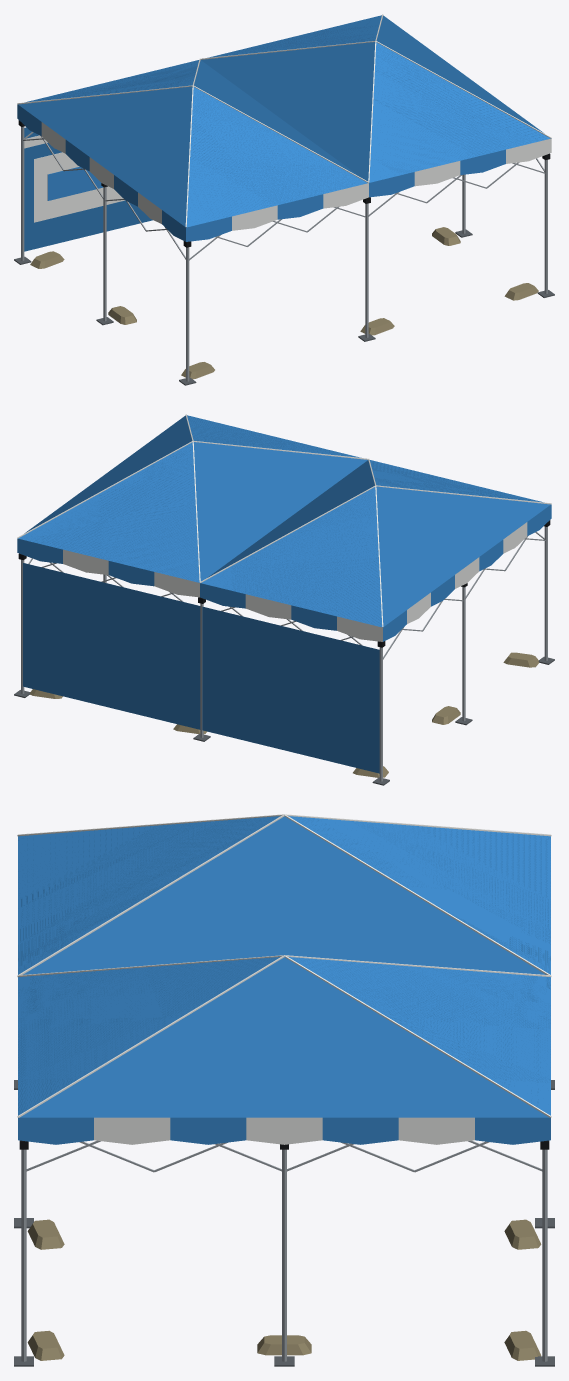
Rendered from pit_tent.glb.
3 views of the same model, one above another, from view 1: azimuth 30°, elevation 25°; view 2: azimuth 150°, elevation 25°; view 3: azimuth 270°, elevation 25° (orthographic). The views are drawn at different scales.
Visible parts, largest first — view 1: pit_tent; view 2: pit_tent; view 3: pit_tent.
Boxes of the visible parts, bbox=[...] form: pit_tent: bbox=[14, 14, 554, 385]; pit_tent: bbox=[14, 414, 554, 785]; pit_tent: bbox=[14, 814, 554, 1366].
Bounding box in the file's own units: 6.72 × 3.73 × 5.39.
